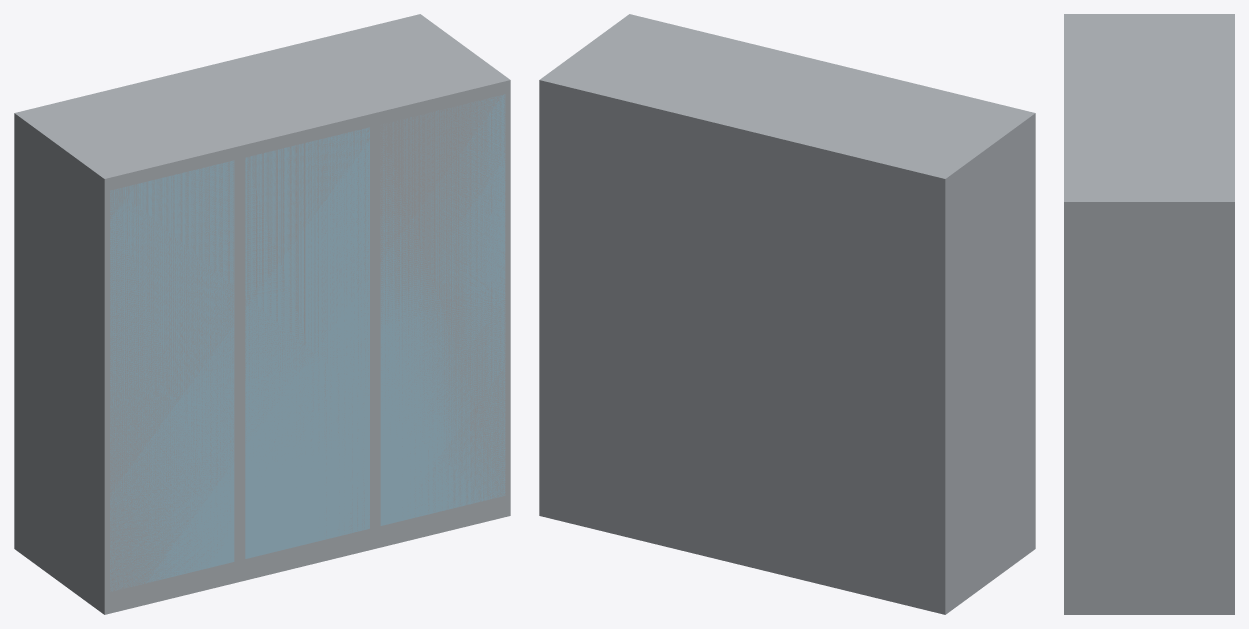
The model's file is merchandiser_glass_door_3door.glb.
3 views of the same model, side by side, from view 1: azimuth 30°, elevation 25°; view 2: azimuth 150°, elevation 25°; view 3: azimuth 270°, elevation 25° (orthographic). The views are drawn at different scales.
Size of the model in its own units: 1.98 by 2.03 by 0.762.
